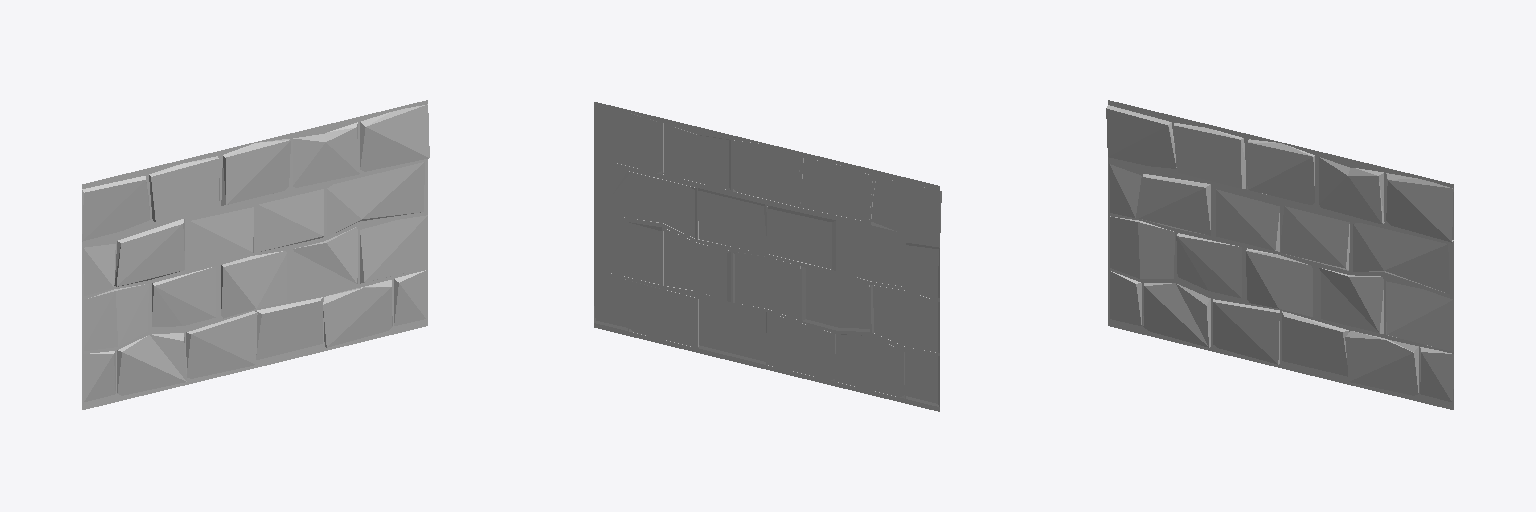
The model's file is wall_1_145tris.obj.
The picture shows the model from 3 angles: view 1: azimuth 30°, elevation 25°; view 2: azimuth 150°, elevation 25°; view 3: azimuth 330°, elevation 25°; orthographic projection.
Visible parts, largest first — view 1: Wall_OneSide; view 2: Wall_OneSide; view 3: Wall_OneSide.
Part boxes in pixels (x1,y1,x2,y2): Wall_OneSide: (82, 100, 429, 409); Wall_OneSide: (594, 102, 941, 411); Wall_OneSide: (1106, 100, 1453, 409).
Size of the model in its own units: 2 by 1.25 by 0.0253.